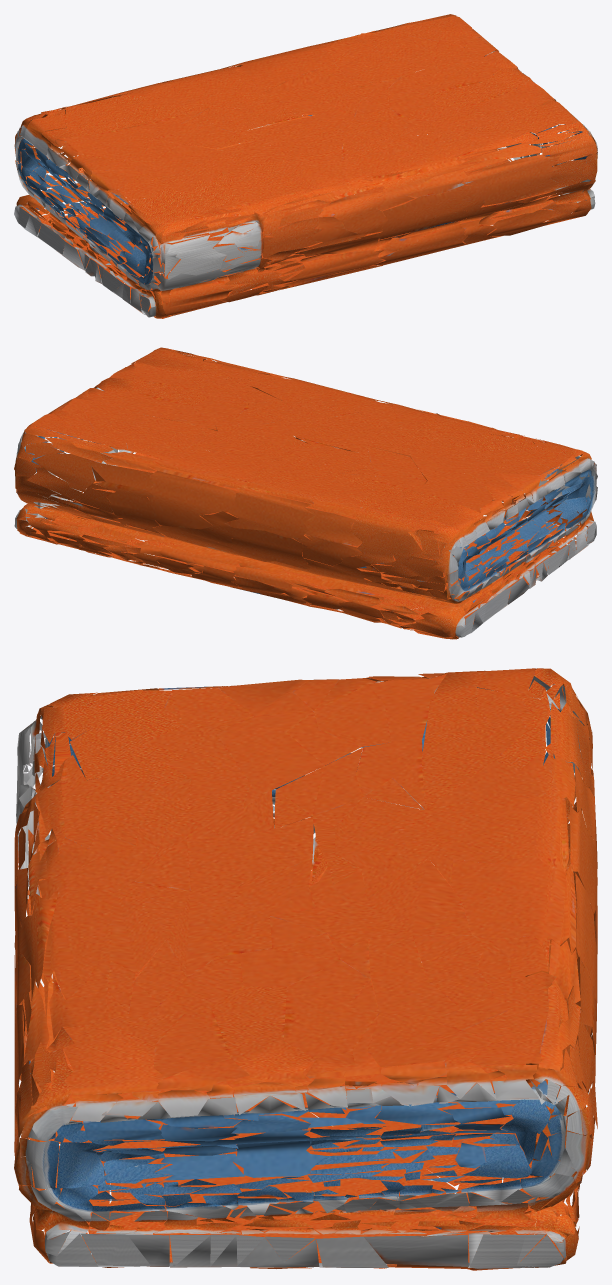
Rendered from splint.glb.
3 renders of one model, top to bottom at view 1: azimuth 30°, elevation 25°; view 2: azimuth 150°, elevation 25°; view 3: azimuth 270°, elevation 25°, orthographic. The views are drawn at different scales.
Parts seen in each view (by area): view 1: Mesh_0; view 2: Mesh_0; view 3: Mesh_0.
Boxes of the visible parts, <box> form: Mesh_0: <box>14,14,597,318</box>; Mesh_0: <box>14,347,597,639</box>; Mesh_0: <box>14,668,597,1270</box>.
Size of the model in its own units: 0.12 by 0.0282 by 0.071.
1 material, 1 textured.
